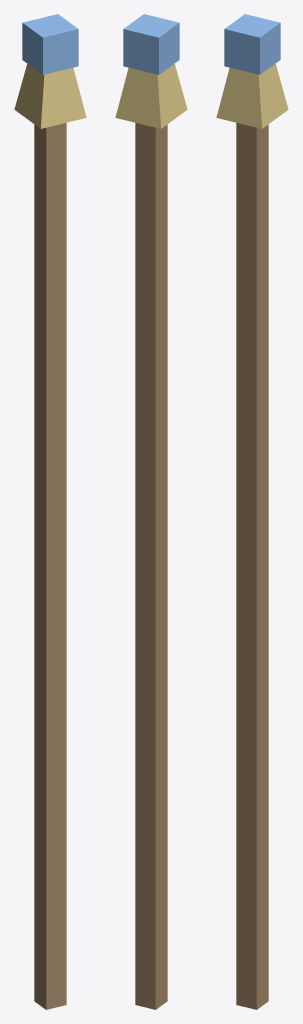
Rendered from staff.glb.
3 renders of one model, left to right at view 1: azimuth 30°, elevation 25°; view 2: azimuth 150°, elevation 25°; view 3: azimuth 330°, elevation 25°, orthographic.
Parts seen in each view (by area): view 1: Staff; view 2: Staff; view 3: Staff.
Part boxes in pixels (bbox=[...]): Staff: bbox=[14, 14, 86, 1009]; Staff: bbox=[115, 14, 187, 1009]; Staff: bbox=[216, 14, 288, 1009].
Size of the model in its own units: 0.09 by 1.83 by 0.09.
